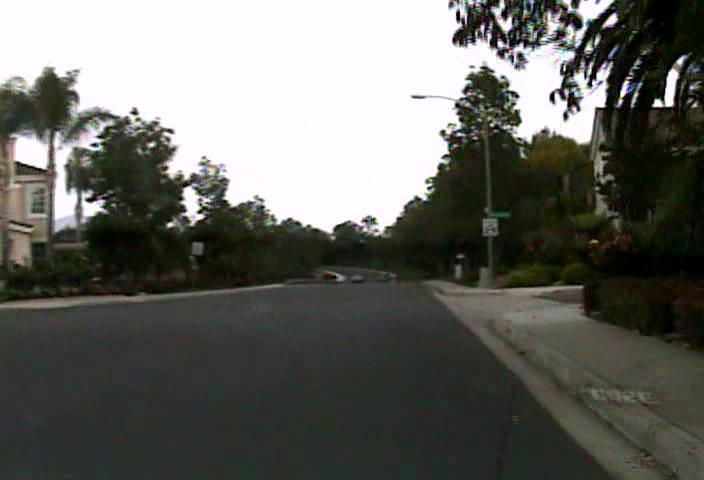speedLimit25: (481, 217, 498, 237)
